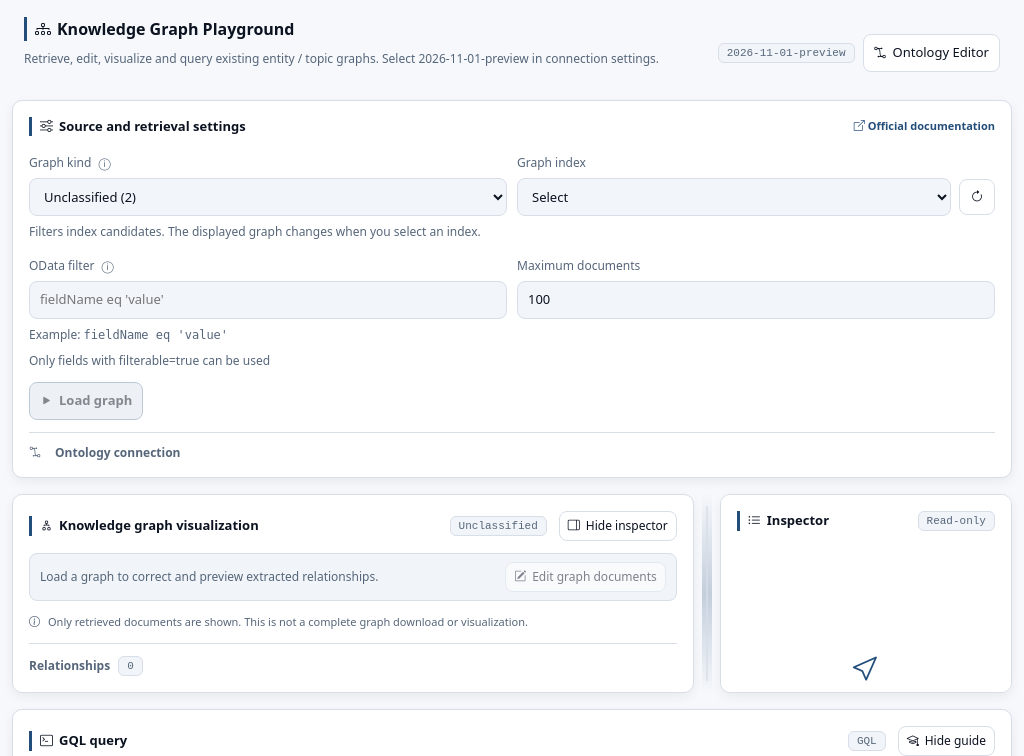
Test: KnowledgeGraphPlayground controls › shows beginner hints for a query that is easy to get wrong
Select "graph-a" in the dropdown named "Graph index" at (734, 197), box [517,178,951,216]
(page scrolled)
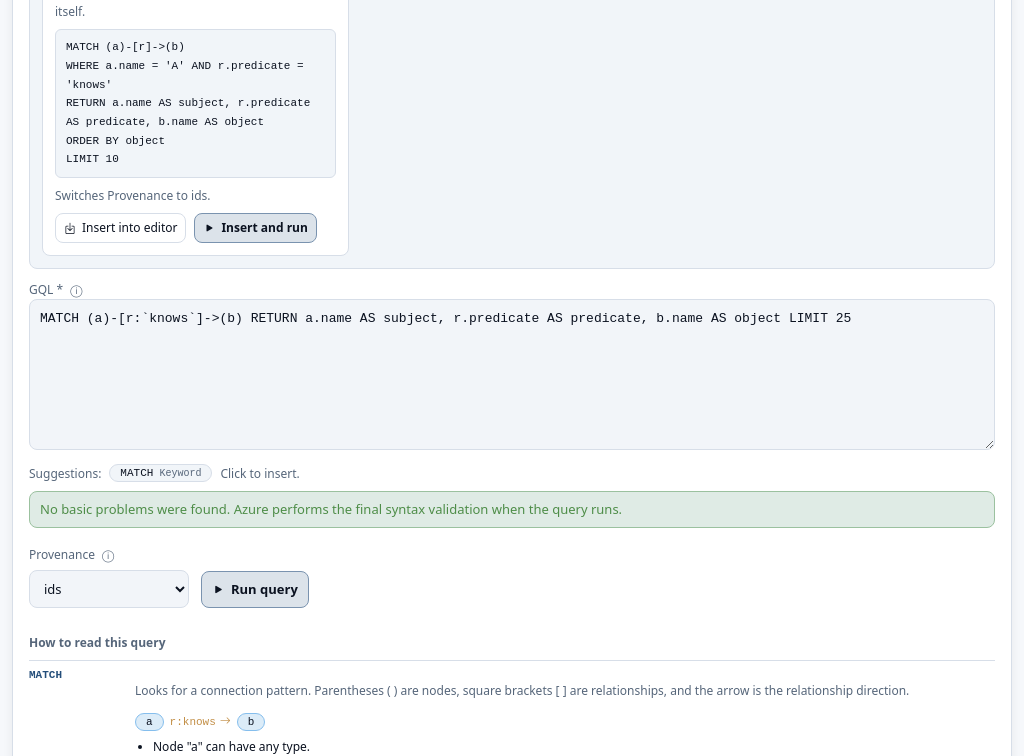
Check: the button "Run query" is enabled, box [201,571,309,608]
Replace the text in the text box named "GQL" with "MATCH (a)-[r]->(b) WHERE a.name == 'A'" at (512, 374), box [29,299,995,450]
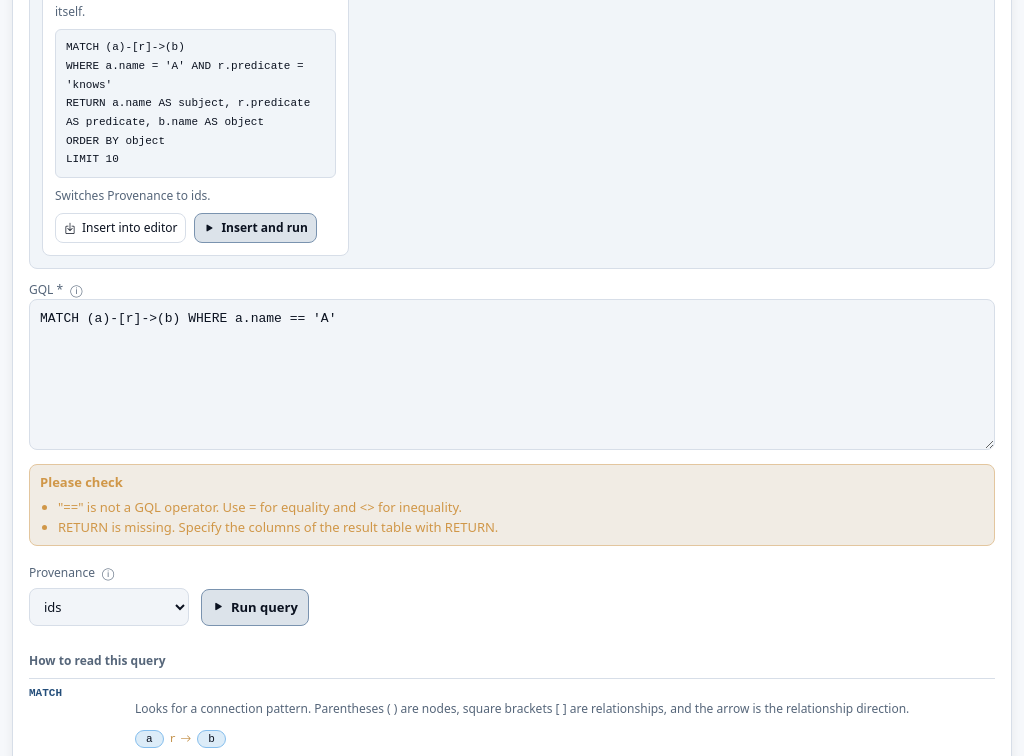
Check: the list item "\"==\" is not a GQL operator" is shown, box [58,498,462,516]
Check: the list item "RETURN is missing" is shown, box [58,518,498,536]
